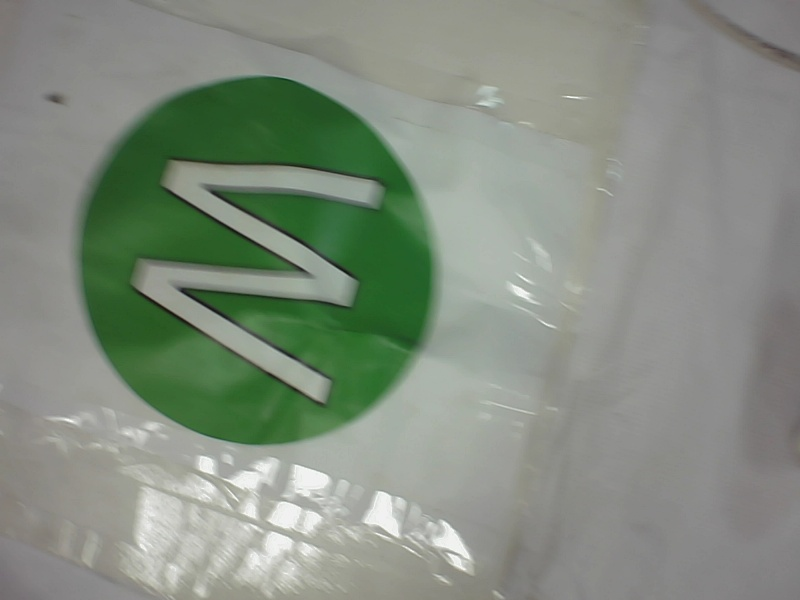areaB: (76, 72, 445, 450)
